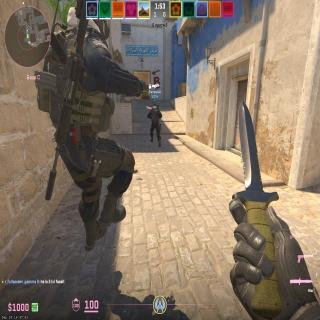CT-Body: (36, 0, 145, 251), (148, 103, 162, 147)
CT-Head: (74, 0, 108, 41), (152, 103, 157, 109)
